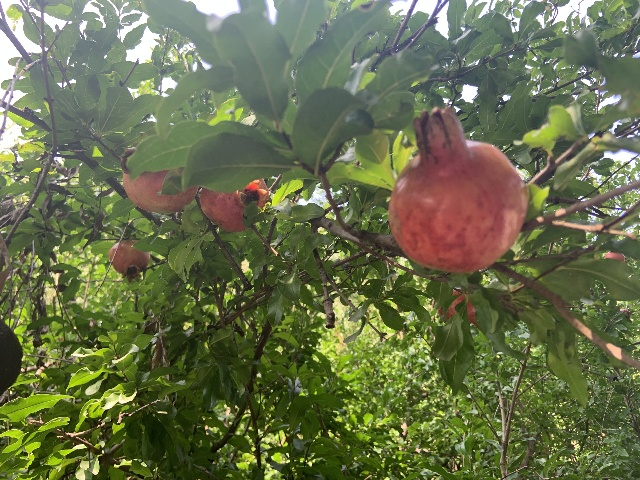flower: (436, 290, 477, 324)
ripe: (387, 105, 529, 273), (120, 147, 198, 213), (200, 178, 268, 232), (109, 239, 149, 283)
